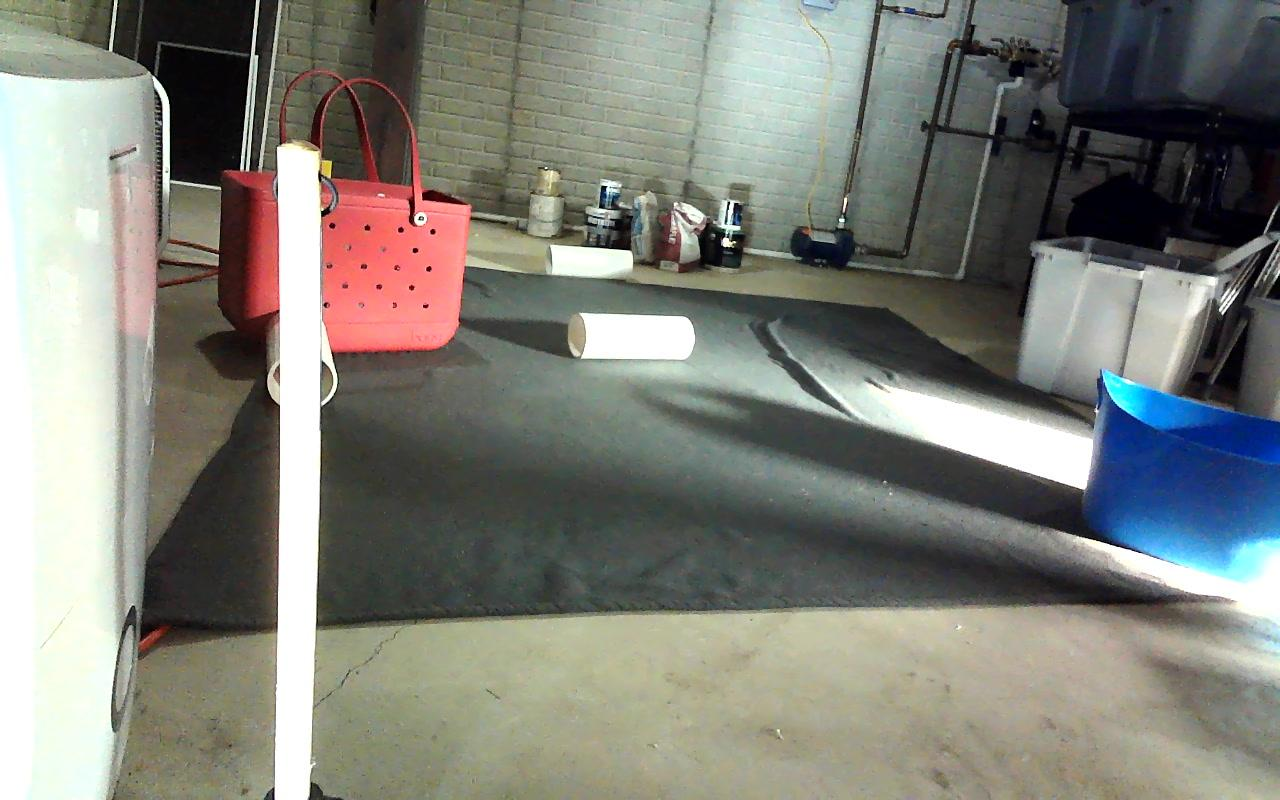coral: (267, 310, 336, 407), (567, 311, 695, 359), (549, 244, 632, 279)
